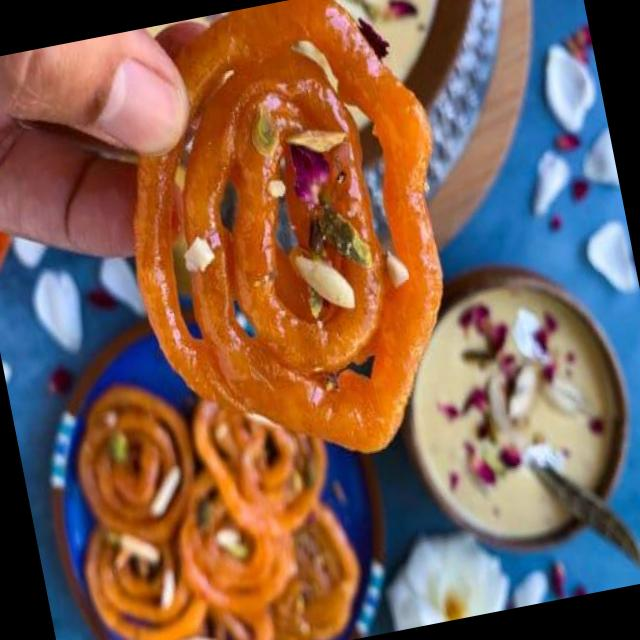jalebi: (111, 0, 475, 476), (44, 349, 369, 640)
